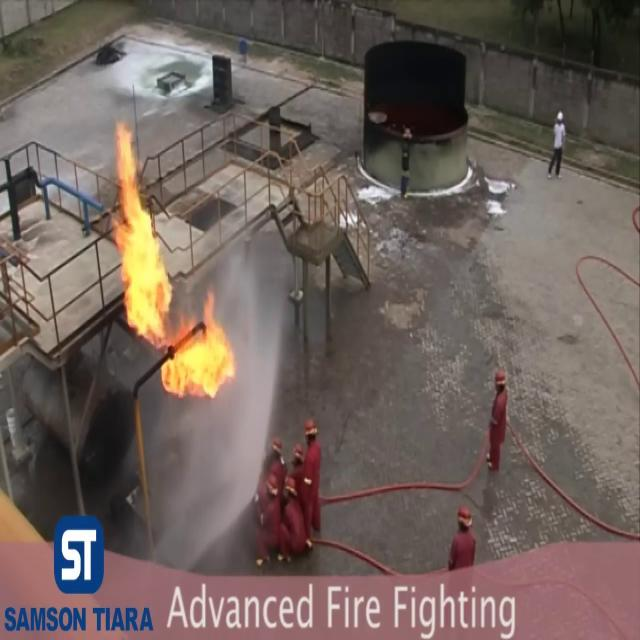Fire: (108, 112, 176, 344), (160, 291, 238, 404)
